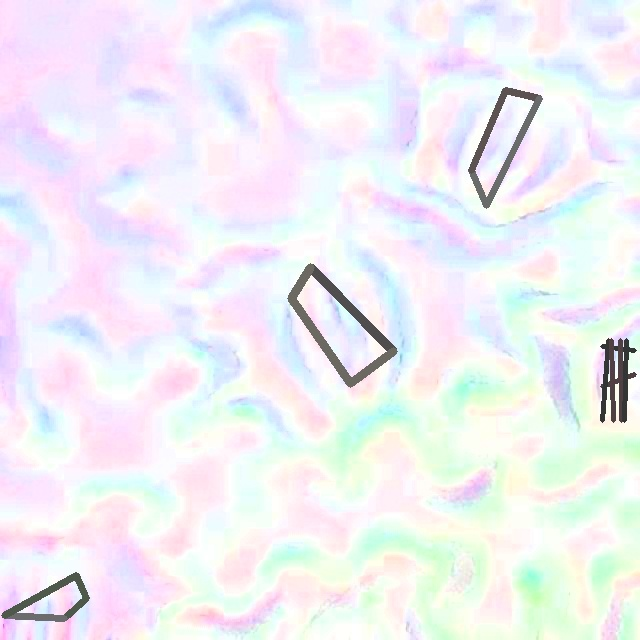open: (287, 263, 397, 387), (468, 87, 542, 208), (1, 572, 89, 621), (600, 338, 635, 422)
